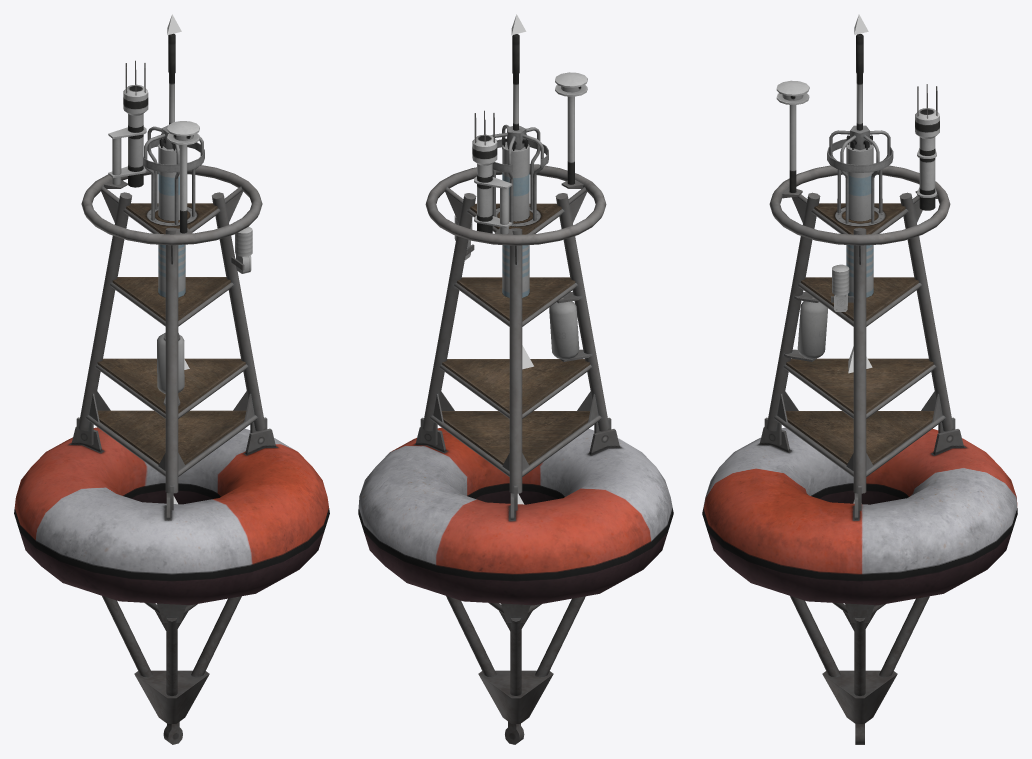
The model's file is buoy.fbx.
The picture shows the model from 3 angles, left to right: view 1: azimuth 30°, elevation 25°; view 2: azimuth 150°, elevation 25°; view 3: azimuth 270°, elevation 25°; orthographic projection.
Visible parts, largest first — view 1: mainbody; view 2: mainbody; view 3: mainbody.
Part boxes in pixels (box(x1,y1,x2,y2)): mainbody: box(14, 33, 329, 744); mainbody: box(358, 34, 673, 744); mainbody: box(702, 34, 1017, 744).
Bounding box in the file's own units: 3.22 × 8.2 × 3.22.
